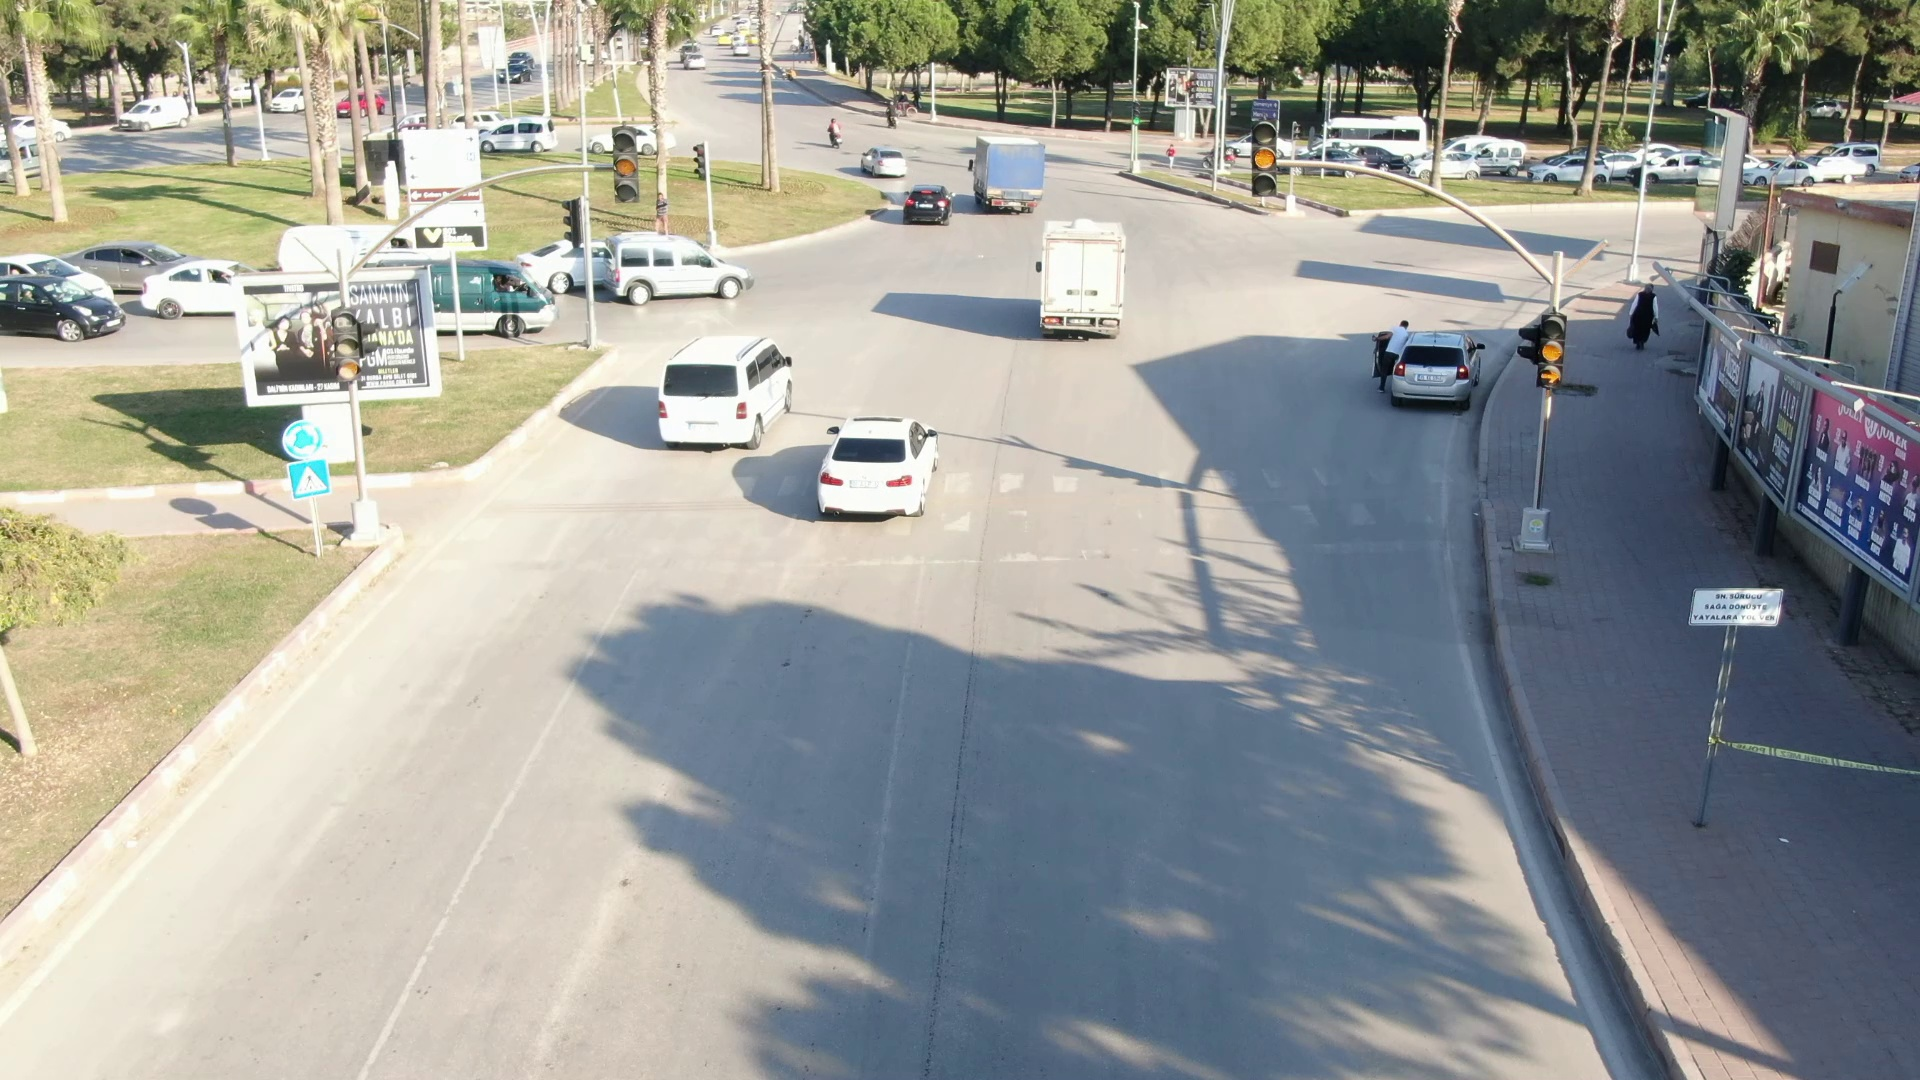car: (811, 397, 959, 547), (644, 322, 802, 461), (1021, 212, 1143, 350), (601, 228, 763, 310), (951, 124, 1059, 211), (1392, 332, 1491, 410), (898, 181, 956, 224), (853, 143, 912, 179)
person: (1619, 266, 1663, 352), (1372, 314, 1411, 393)
